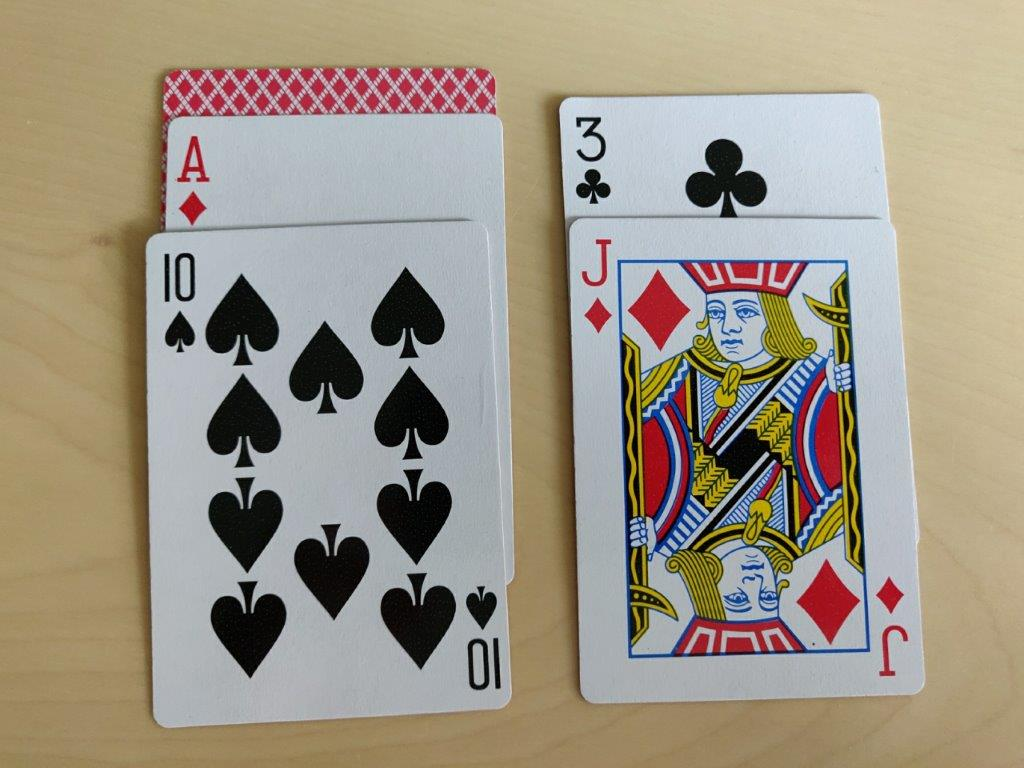10S: (153, 244, 206, 364)
3C: (566, 109, 620, 210)
AD: (174, 130, 215, 230)
BACK: (162, 68, 495, 116)
JD: (575, 225, 619, 341)
